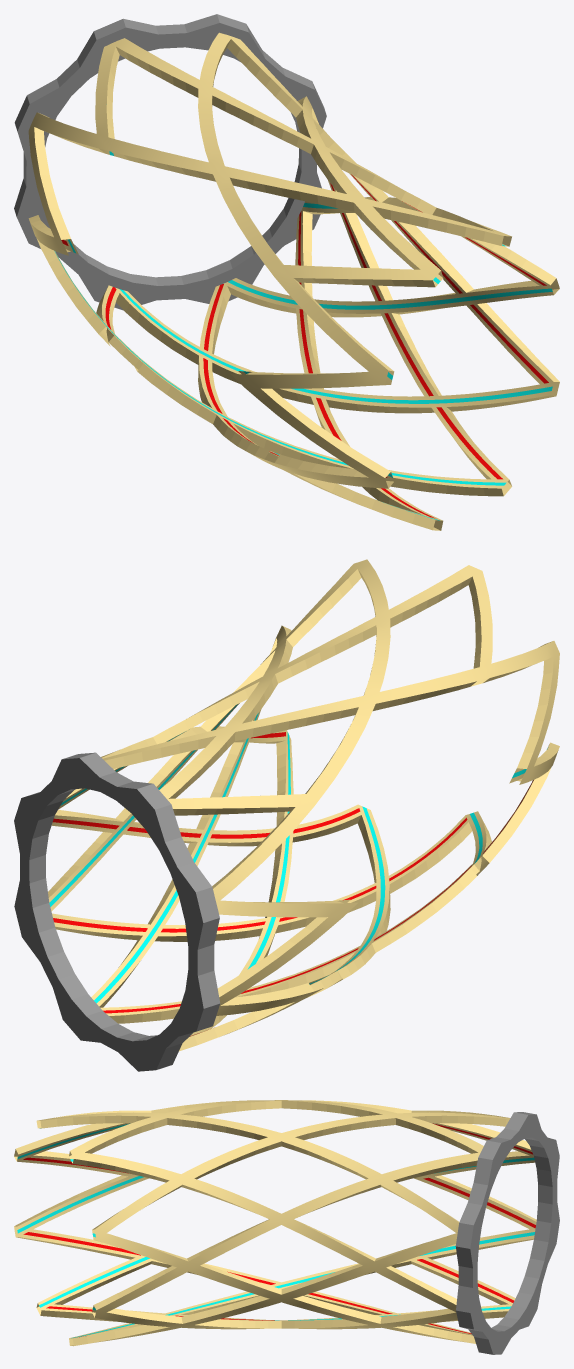
File: SM_Ring_InnerTubingEntryHole.FBX
The picture shows the model from 3 angles, top to bottom: view 1: azimuth 30°, elevation 25°; view 2: azimuth 150°, elevation 25°; view 3: azimuth 270°, elevation 25°; orthographic projection. The views are drawn at different scales.
Parts seen in each view (by area): view 1: Tube001; view 2: Tube001; view 3: Tube001.
Part boxes in pixels (left/top/right/bottom): Tube001: left=14, top=14, right=559, bottom=530; Tube001: left=14, top=559, right=559, bottom=1071; Tube001: left=14, top=1100, right=559, bottom=1354.
Bounding box in the file's own units: 2597 × 2340 × 5452.
